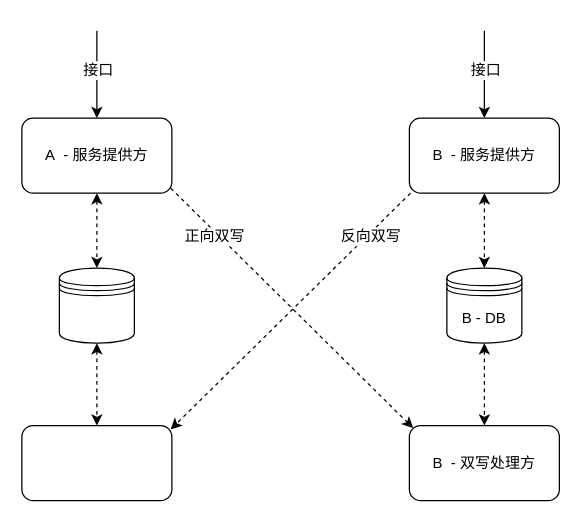
Some shapes in this 581 by 523 pixel diagram are drawn without their labels. Each missing label, with the centre of its shape:
"A - DB" goes at (x=96, y=305).
"A - 双写处理方" goes at (x=96, y=462).
